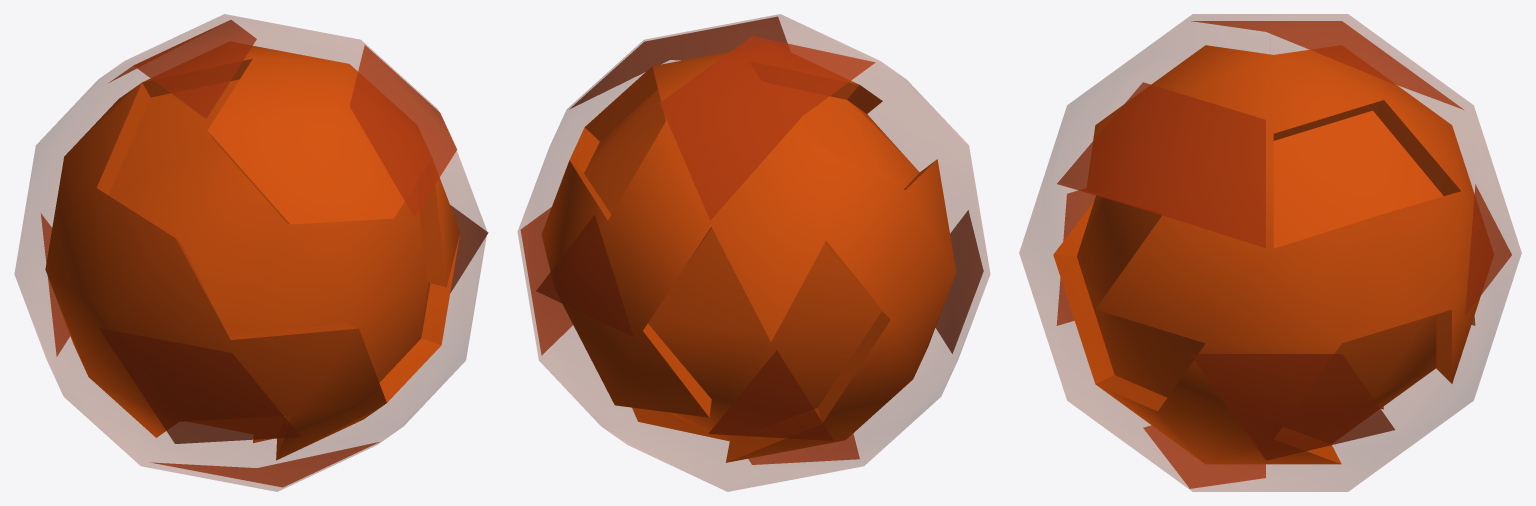
The model's file is Tritan.fbx.
3 renders of one model, left to right at view 1: azimuth 30°, elevation 25°; view 2: azimuth 150°, elevation 25°; view 3: azimuth 270°, elevation 25°, orthographic. The views are drawn at different scales.
Parts seen in each view (by area): view 1: air, Land, Gurum; view 2: air, Land, Gurum; view 3: air, Land, Gurum.
Part boxes in pixels (x1,y1,x2,y2): air: [14, 14, 486, 491]; Land: [45, 42, 460, 460]; Gurum: [41, 20, 488, 487]; air: [517, 14, 990, 491]; Land: [541, 44, 956, 462]; Gurum: [520, 16, 983, 464]; air: [1019, 14, 1521, 491]; Land: [1053, 45, 1493, 464]; Gurum: [1056, 21, 1511, 488].
Size of the model in its own units: 86.74 by 91.2 by 91.2.
